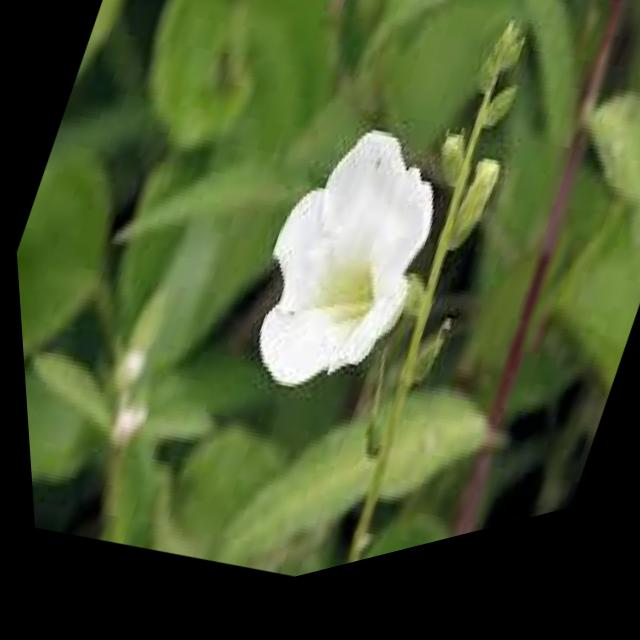Flower: (207, 92, 479, 449)
